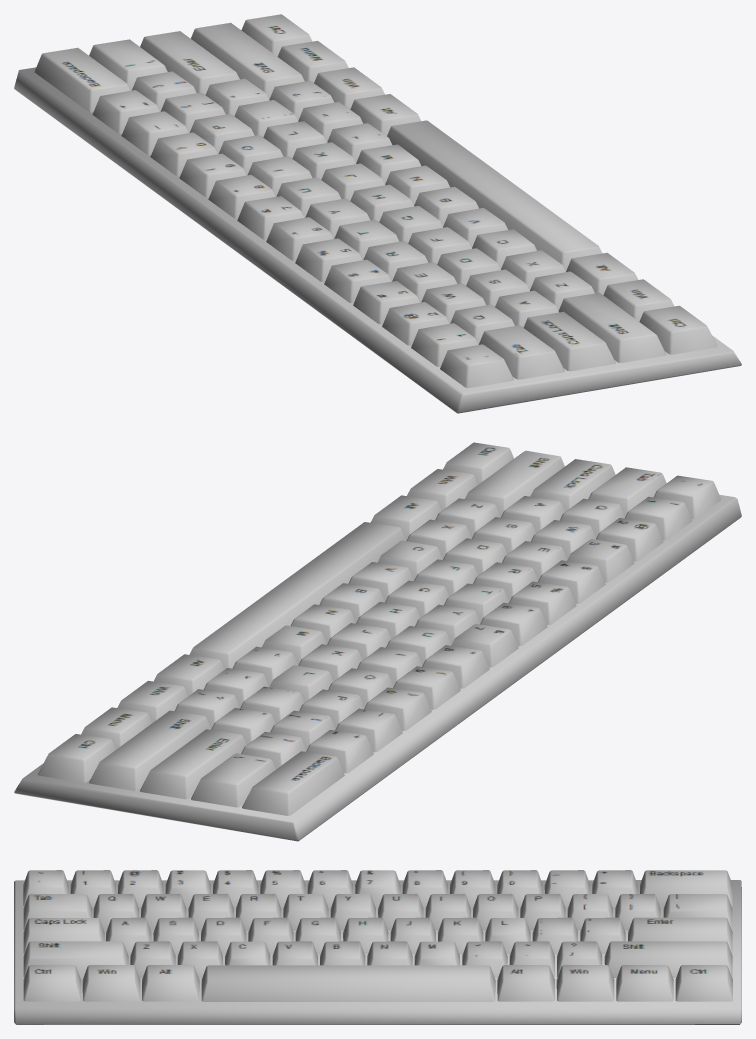
Rendered from Keyboard_Proper.fbx.
3 renders of one model, top to bottom at view 1: azimuth 30°, elevation 25°; view 2: azimuth 150°, elevation 25°; view 3: azimuth 270°, elevation 25°, orthographic. The views are drawn at different scales.
Parts seen in each view (by area): view 1: KeyboardProper2022; view 2: KeyboardProper2022; view 3: KeyboardProper2022.
Part boxes in pixels (x1,y1,x2,y2): KeyboardProper2022: [14, 14, 741, 413]; KeyboardProper2022: [14, 442, 741, 841]; KeyboardProper2022: [14, 870, 741, 1024].
Bounding box in the file's own units: 15.84 × 3.18 × 42.65.
